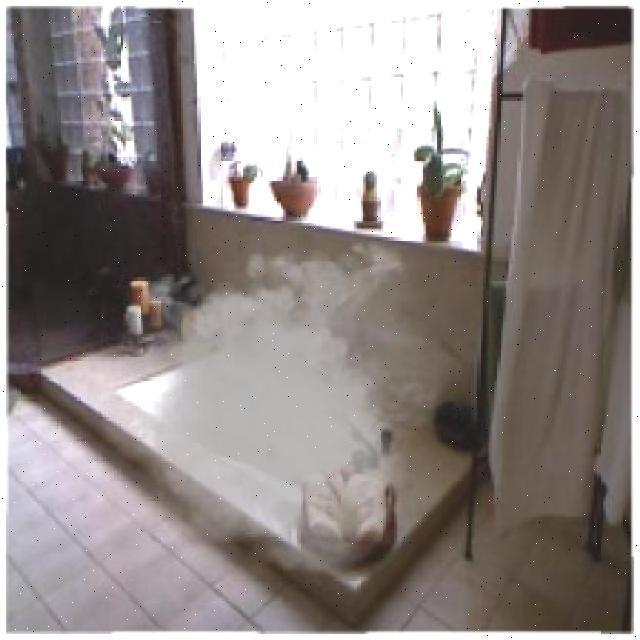smoke: (152, 197, 428, 571)
